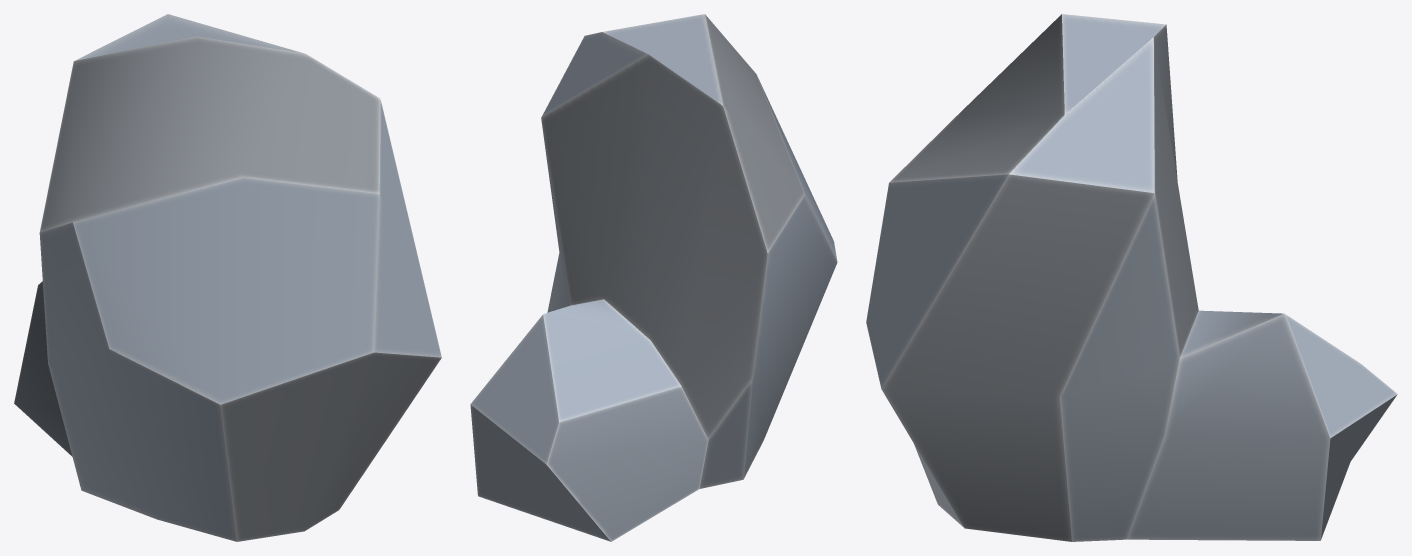
File: Rock_Mesh_02.fbx
The picture shows the model from 3 angles, left to right: view 1: azimuth 30°, elevation 25°; view 2: azimuth 150°, elevation 25°; view 3: azimuth 270°, elevation 25°; orthographic projection. The views are drawn at different scales.
Parts seen in each view (by area): view 1: Rock_02; view 2: Rock_02; view 3: Rock_02.
Boxes of the visible parts, left/top/right/bottom form: Rock_02: left=14, top=14, right=441, bottom=541; Rock_02: left=470, top=14, right=837, bottom=541; Rock_02: left=866, top=14, right=1397, bottom=541.
Bounding box in the file's own units: 1.09 × 1.74 × 1.79.
